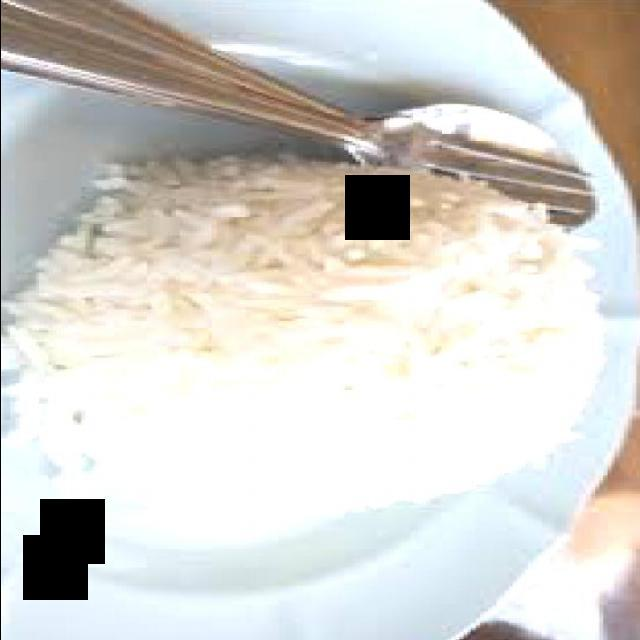rice: (0, 154, 602, 517)
